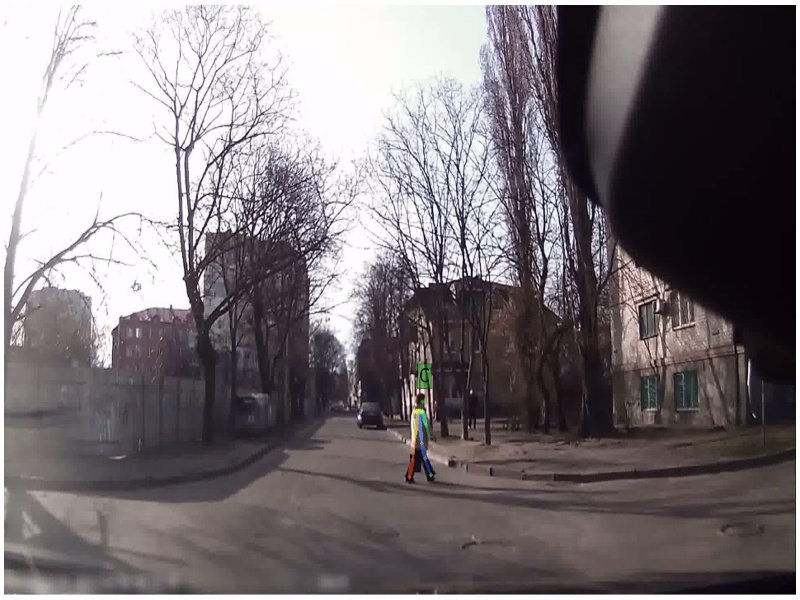car: (353, 401, 388, 429)
person: (409, 392, 441, 490)
